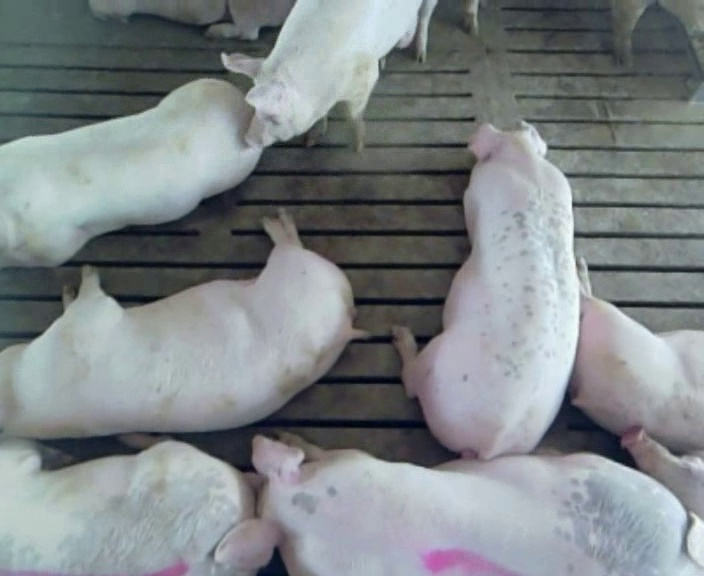pig: (0, 210, 364, 437), (213, 435, 703, 574), (394, 123, 579, 458), (0, 79, 261, 267), (0, 435, 263, 575), (223, 1, 437, 150), (570, 259, 703, 451), (622, 429, 703, 566)
